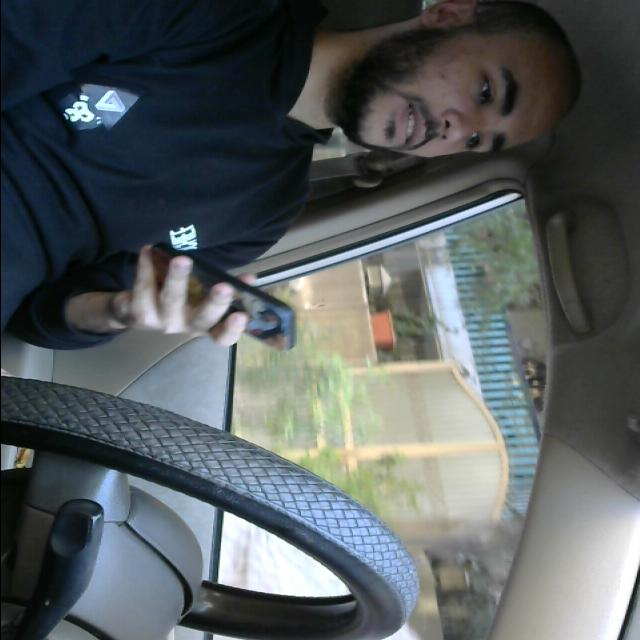mobile use: (126, 238, 304, 350)
